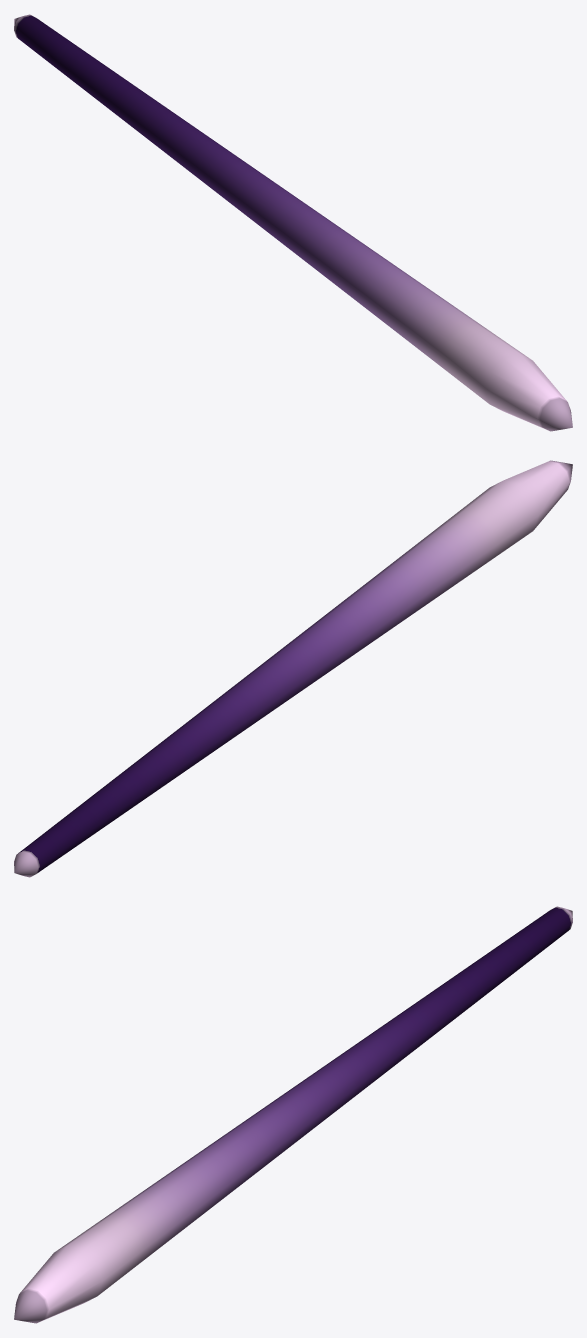
Rendered from plasma_bolt.fbx.
3 renders of one model, top to bottom at view 1: azimuth 30°, elevation 25°; view 2: azimuth 150°, elevation 25°; view 3: azimuth 330°, elevation 25°, orthographic.
Parts seen in each view (by area): view 1: plasma_bolt; view 2: plasma_bolt; view 3: plasma_bolt.
Boxes of the visible parts, x1,y1,x2,y2 form: plasma_bolt: [14, 14, 572, 431]; plasma_bolt: [14, 460, 572, 877]; plasma_bolt: [14, 906, 572, 1323].
Size of the model in its own units: 0.0533 by 0.0507 by 0.96.
